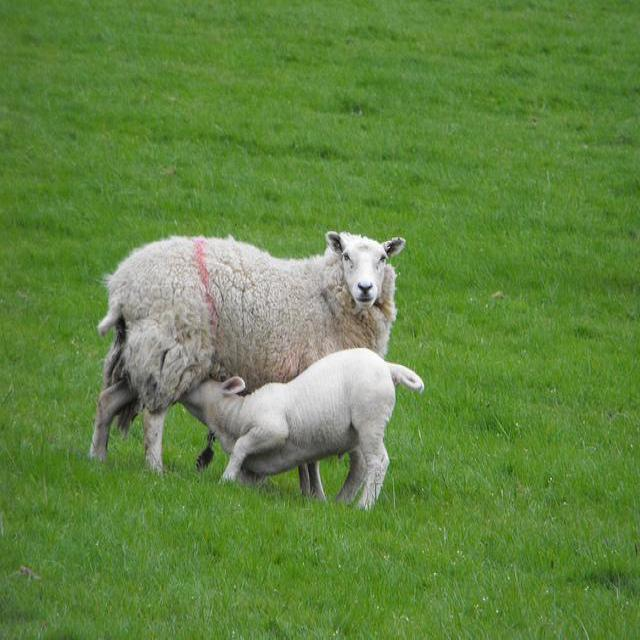Sheep: (91, 232, 410, 508), (177, 345, 426, 516)
